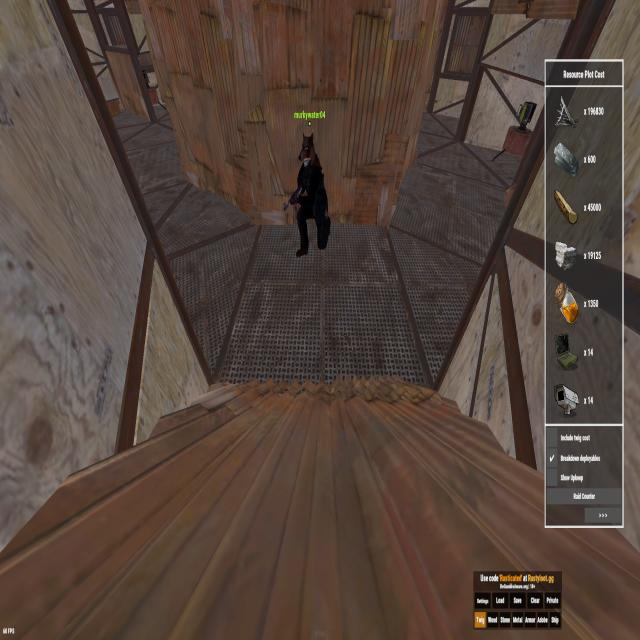Player: (284, 130, 333, 260)
